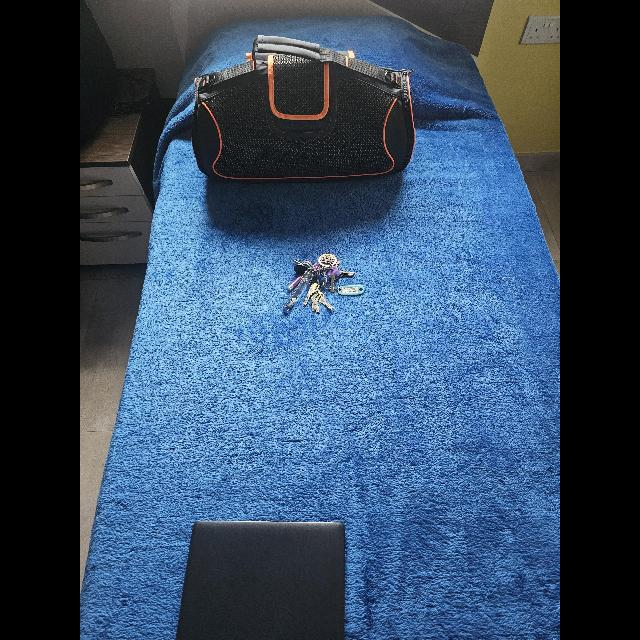Keys: (284, 254, 358, 312)
